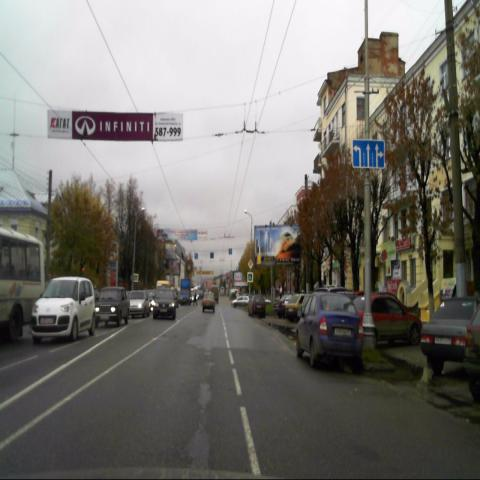5_15_1: (353, 140, 385, 168)
